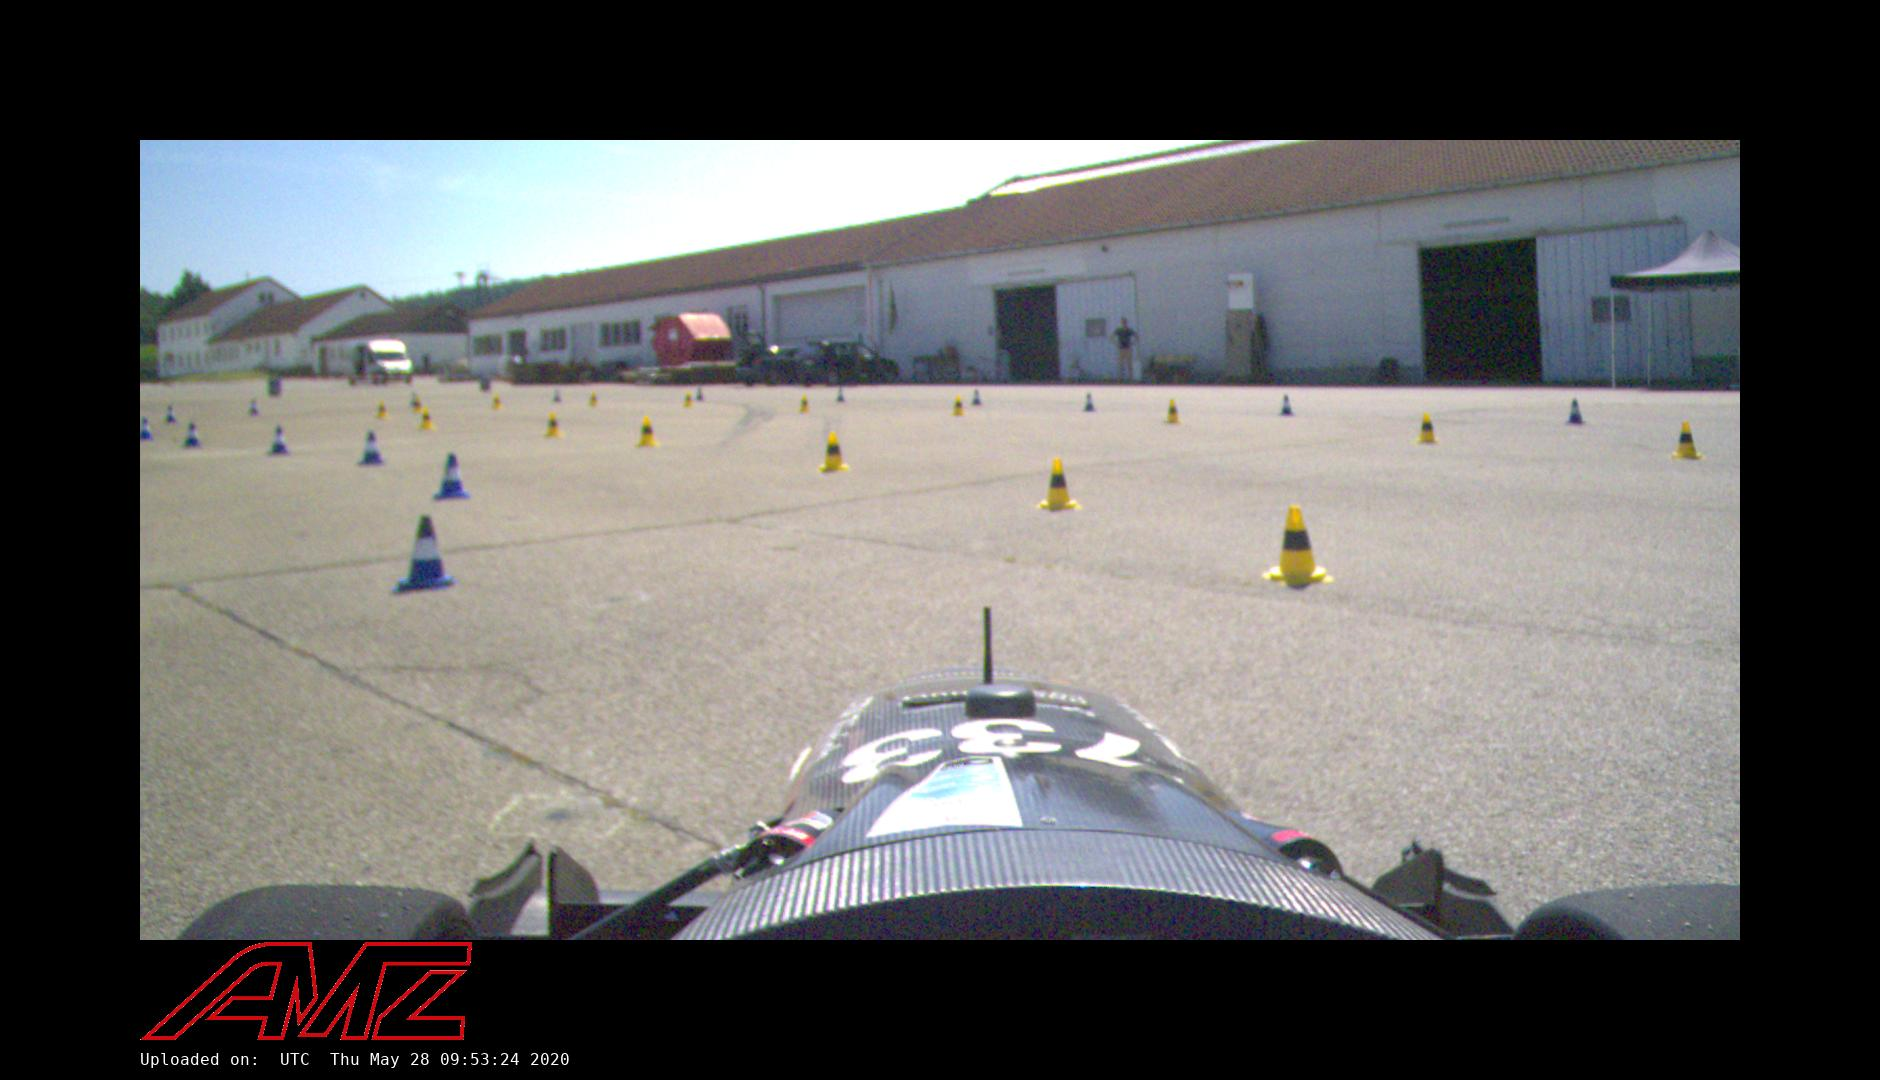blue_cone: (396, 514, 453, 585), (434, 452, 469, 501), (357, 428, 386, 464), (266, 422, 292, 454), (183, 422, 201, 448), (1278, 392, 1297, 416), (1082, 388, 1098, 412), (140, 414, 152, 441), (245, 397, 260, 416), (833, 387, 848, 404), (969, 389, 982, 407), (167, 404, 175, 422)
yellow_cone: (1262, 508, 1332, 590), (1037, 453, 1082, 513), (816, 428, 850, 474), (1669, 420, 1703, 460), (1415, 413, 1442, 444), (635, 416, 659, 448), (1564, 396, 1588, 425), (1163, 395, 1184, 424), (541, 412, 563, 439), (948, 392, 966, 415), (417, 408, 435, 431), (795, 393, 812, 413), (375, 399, 389, 420), (586, 389, 600, 406), (682, 390, 695, 408), (490, 394, 503, 410)
